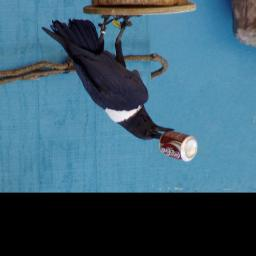Crow: (40, 13, 176, 142)
